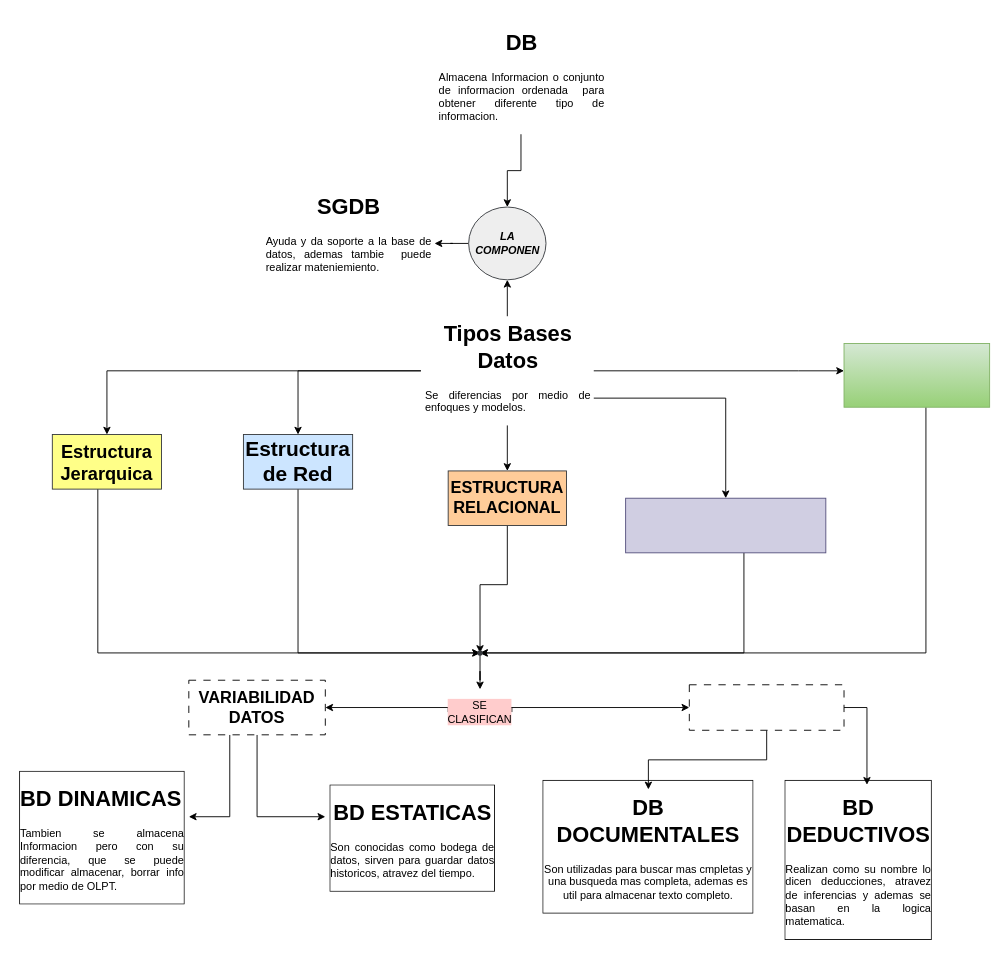
Image size: 1006x959. Some labels were removed from this diagram. Here are the shapes that lost their labels. From the top down, the centre of each, then its label:
At [916,375]: "ESTRUCTURA ORIENTADA OBJETOS".
At [725,525]: "ESTRUCTURA MULTIDIMENCIONAL".
At [766,707]: "SEGUN CONTENIDO".
